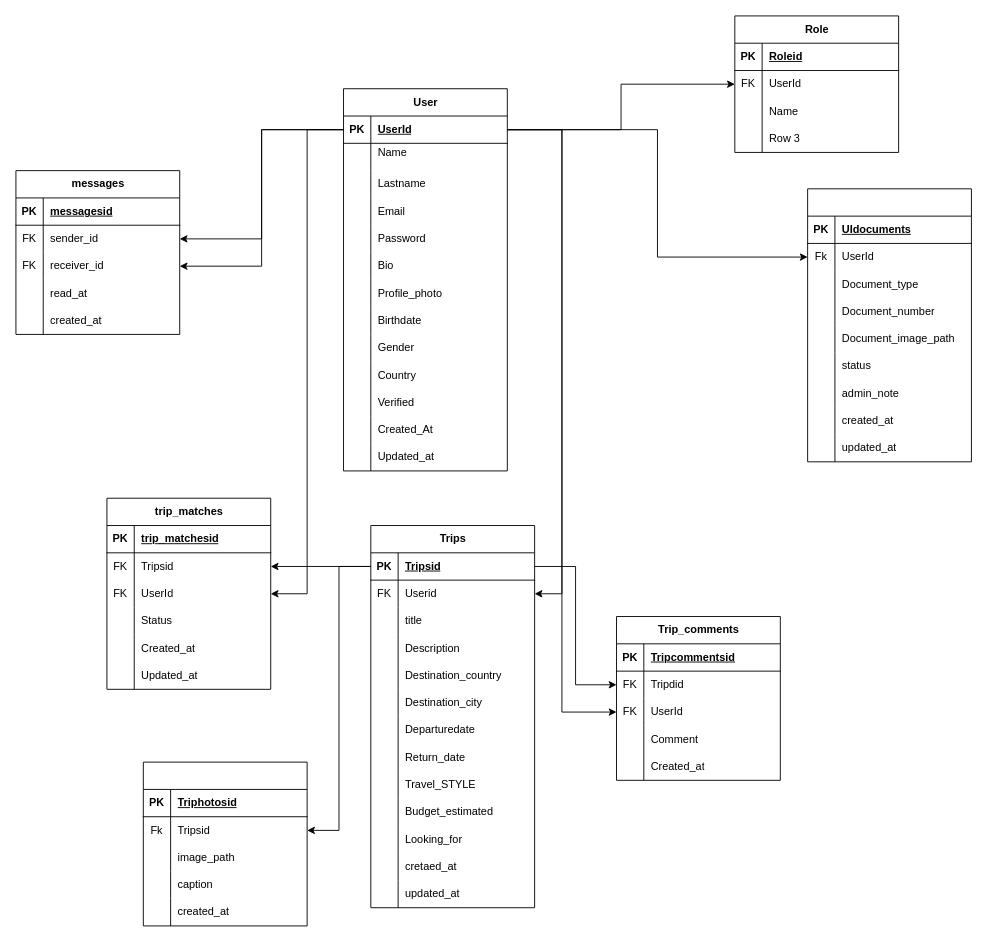
Image size: 987x942. Some labels were removed from this diagram. Each missing label, with the box of its shape:
Trip_photos: (142, 761, 307, 926)
User_id_documents: (807, 188, 971, 462)
